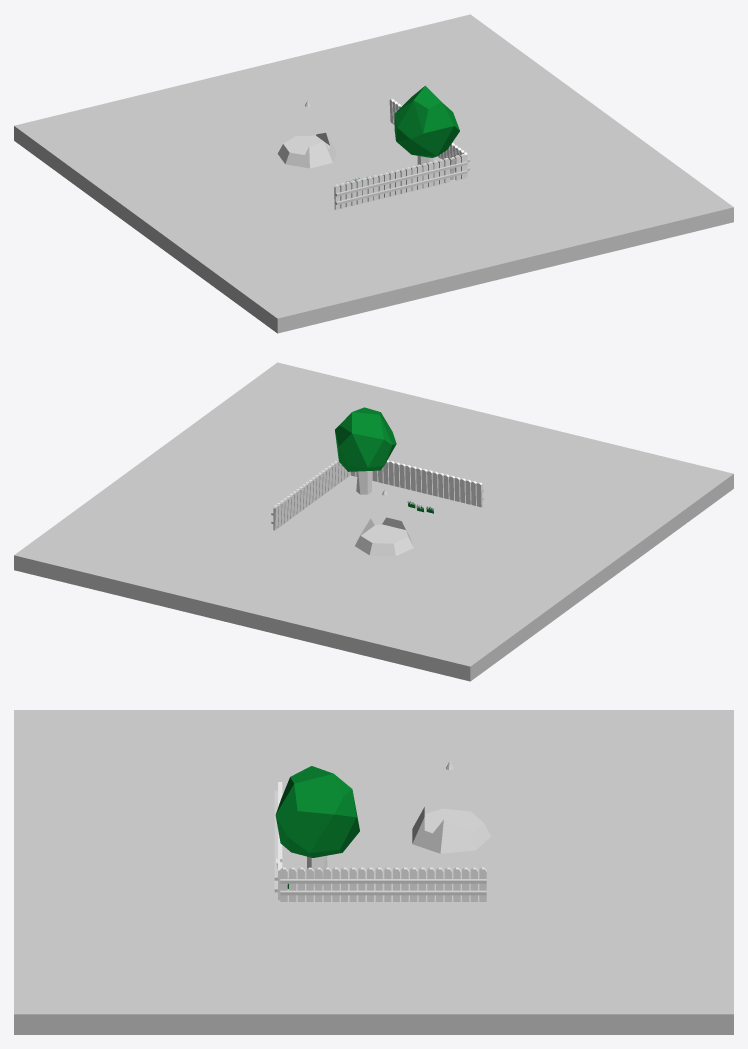
File: game.glb
3 views of the same model, one above another, from view 1: azimuth 30°, elevation 25°; view 2: azimuth 150°, elevation 25°; view 3: azimuth 270°, elevation 25° (orthographic). The views are drawn at different scales.
Visible parts, largest first — view 1: Ground, Tree_leaves, Fence, Cone, beam_upper, beam_lower; view 2: Ground, Tree_leaves, Fence, Fence.001, Cone; view 3: Ground, Tree_leaves, Fence.001, Cone, beam_lower.001, beam_upper.001.
Part boxes in pixels (bbox=[...]): Ground: bbox=[14, 14, 733, 333]; Tree_leaves: bbox=[394, 85, 459, 157]; Fence: bbox=[334, 154, 466, 209]; Cone: bbox=[277, 100, 336, 168]; beam_upper: bbox=[335, 161, 467, 196]; beam_lower: bbox=[335, 170, 467, 204]; Ground: bbox=[14, 362, 733, 681]; Tree_leaves: bbox=[335, 407, 396, 471]; Fence: bbox=[350, 460, 482, 507]; Fence.001: bbox=[273, 459, 350, 530]; Cone: bbox=[355, 489, 413, 556]; Ground: bbox=[14, 710, 733, 1034]; Tree_leaves: bbox=[275, 766, 359, 857]; Fence.001: bbox=[280, 867, 486, 901]; Cone: bbox=[412, 761, 490, 853]; beam_lower.001: bbox=[280, 890, 486, 895]; beam_upper.001: bbox=[280, 879, 486, 883].
Bounding box in the file's own units: 128 × 26.18 × 128.
